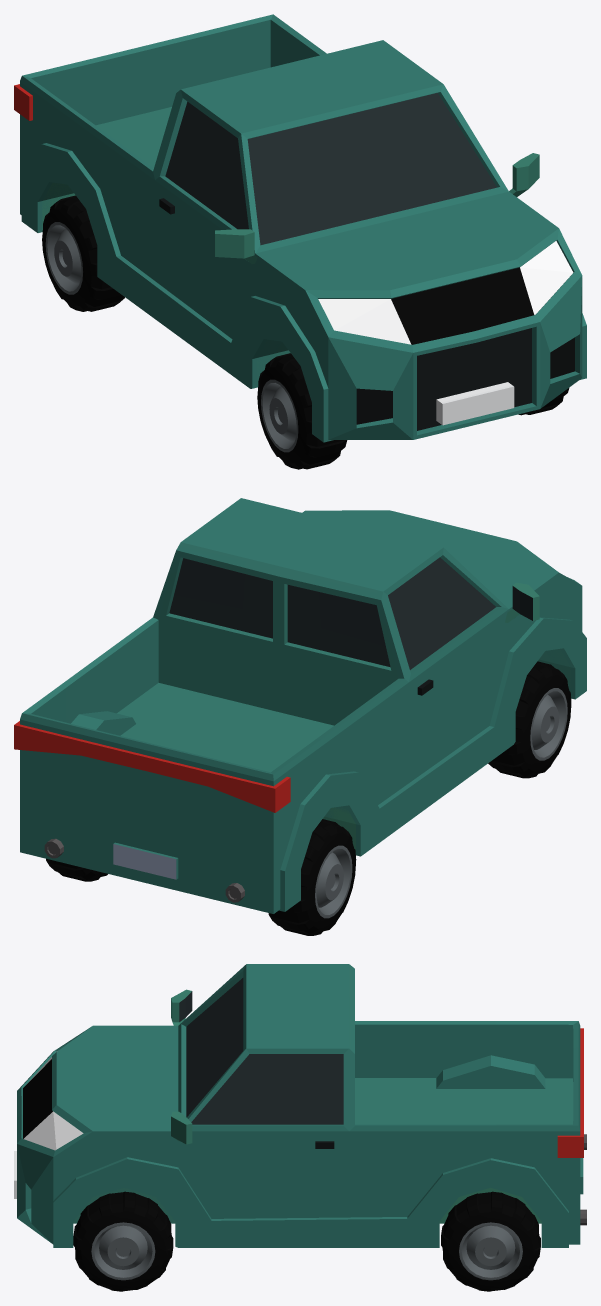
File: PICK UP.fbx
3 views of the same model, one above another, from view 1: azimuth 30°, elevation 25°; view 2: azimuth 150°, elevation 25°; view 3: azimuth 270°, elevation 25° (orthographic). The views are drawn at different scales.
Visible parts, largest first — view 1: FrontWheel_R.003; view 2: FrontWheel_R.003; view 3: FrontWheel_R.003.
Part boxes in pixels (box(x1,y1,x2,y2)): FrontWheel_R.003: box(14, 14, 586, 469); FrontWheel_R.003: box(14, 498, 586, 935); FrontWheel_R.003: box(14, 964, 586, 1291).
Bounding box in the file's own units: 422 × 756 × 341.
2 materials, 2 textured.
